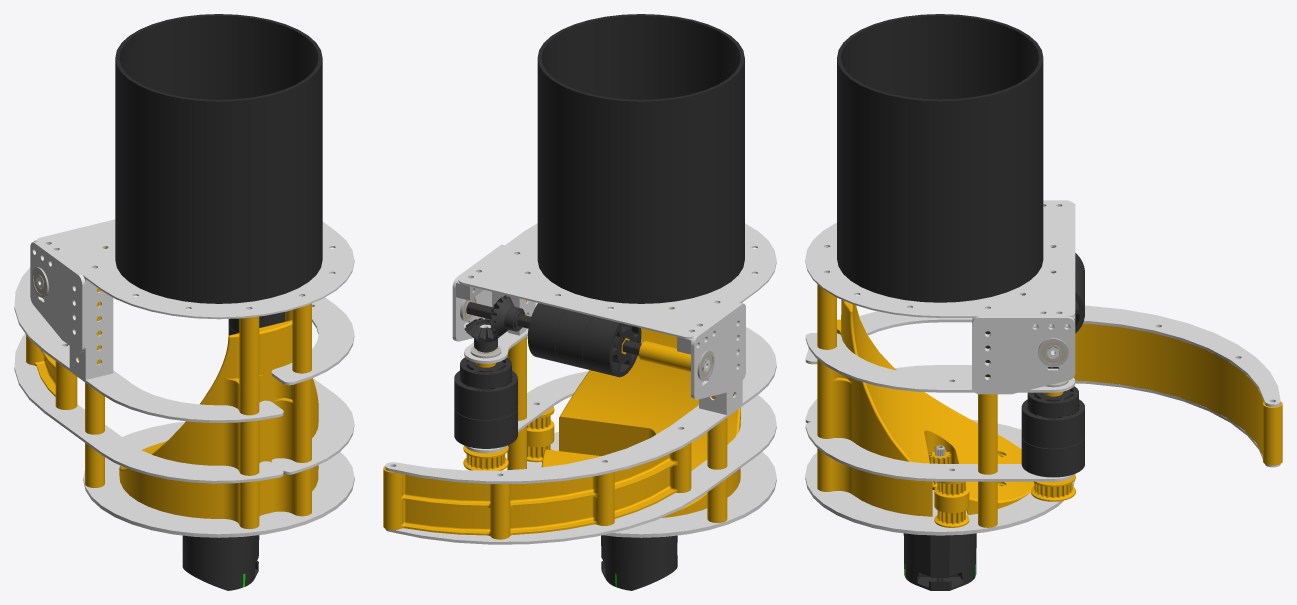
3 renders of one model, left to right at view 1: azimuth 30°, elevation 25°; view 2: azimuth 150°, elevation 25°; view 3: azimuth 270°, elevation 25°, orthographic.
Visible parts, largest first — view 1: Part 20, Top Plate, Base Plate, Bottom, Middle, Hook Plate, Part 12, Top, Part 17, Kraken X60 Brushless Motor, 1" 0.375 Hex Spacer (×5), Part 14 (+4 smaller); view 2: Part 20, Part 1 (×3), Top Plate, 2" Flex Wheel (60A, 1" Wide, 1/2" Hex Bore) (×5), Part 12, Bottom, Hook Plate, Middle, Base Plate, Part 17, Kraken X60 Brushless Motor, Side Roller Plate (+7 smaller); view 3: Part 20, Part 1 (×3), Top Plate, Bottom, Top Roller Sideplate, Middle, Part 12, Base Plate, Side Roller Plate, 2" Flex Wheel (60A, 1" Wide, 1/2" Hex Bore) (×2), Part 14, Kraken X60 Brushless Motor (+5 smaller).
Boxes of the visible parts, box(x1,y1,x2,y2) form: Part 20: box(115, 14, 322, 303); Top Plate: box(36, 219, 354, 319); Base Plate: box(83, 421, 354, 537); Bottom: box(119, 422, 318, 529); Middle: box(152, 378, 318, 475); Hook Plate: box(14, 333, 283, 483); Part 12: box(14, 267, 283, 422); Top: box(200, 320, 311, 415); Part 17: box(30, 241, 85, 352); Kraken X60 Brushless Motor: box(182, 535, 259, 590); 1" 0.375 Hex Spacer (×5): box(85, 312, 311, 434); Part 14: box(271, 297, 354, 385); Part 20: box(537, 14, 744, 303); Part 1 (×3): box(383, 406, 691, 539); Top Plate: box(459, 223, 776, 338); 2" Flex Wheel (60A, 1" Wide, 1/2" Hex Bore) (×5): box(454, 303, 641, 448); Part 12: box(385, 327, 776, 484); Bottom: box(541, 393, 740, 517); Hook Plate: box(385, 395, 776, 544); Middle: box(574, 328, 740, 432); Base Plate: box(527, 431, 776, 537); Part 17: box(691, 303, 745, 399); Kraken X60 Brushless Motor: box(601, 535, 677, 590); Side Roller Plate: box(464, 371, 588, 453); Part 20: box(837, 14, 1043, 302); Part 1 (×3): box(934, 323, 1282, 527); Top Plate: box(805, 202, 1075, 317); Bottom: box(817, 391, 1034, 516); Top Roller Sideplate: box(972, 316, 1075, 394); Middle: box(817, 336, 911, 461); Part 12: box(805, 305, 1280, 406); Base Plate: box(805, 419, 1074, 535); Side Roller Plate: box(805, 422, 1074, 481); 2" Flex Wheel (60A, 1" Wide, 1/2" Hex Bore) (×2): box(1021, 399, 1084, 477); Part 14: box(805, 333, 1075, 392); Kraken X60 Brushless Motor: box(903, 445, 976, 577).
Size of the model in its own units: 0.2286 by 0.4556 by 0.3819.
